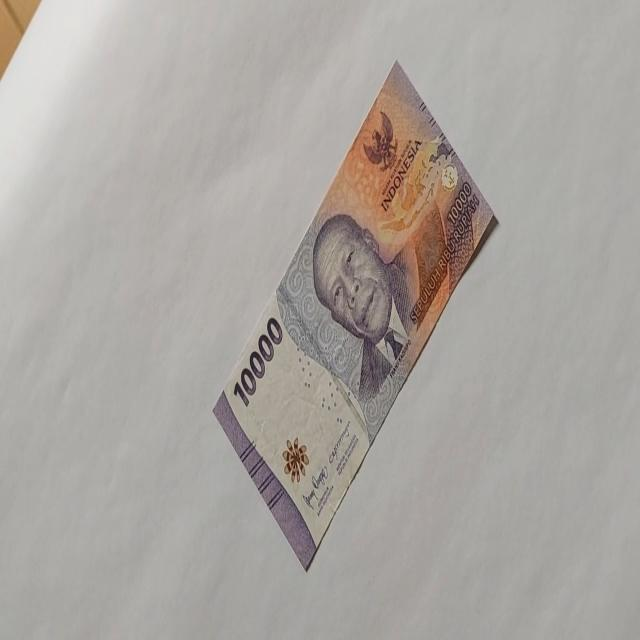sepuluh ribu rupiah: (212, 58, 498, 572), (311, 210, 421, 402), (231, 315, 283, 409)
